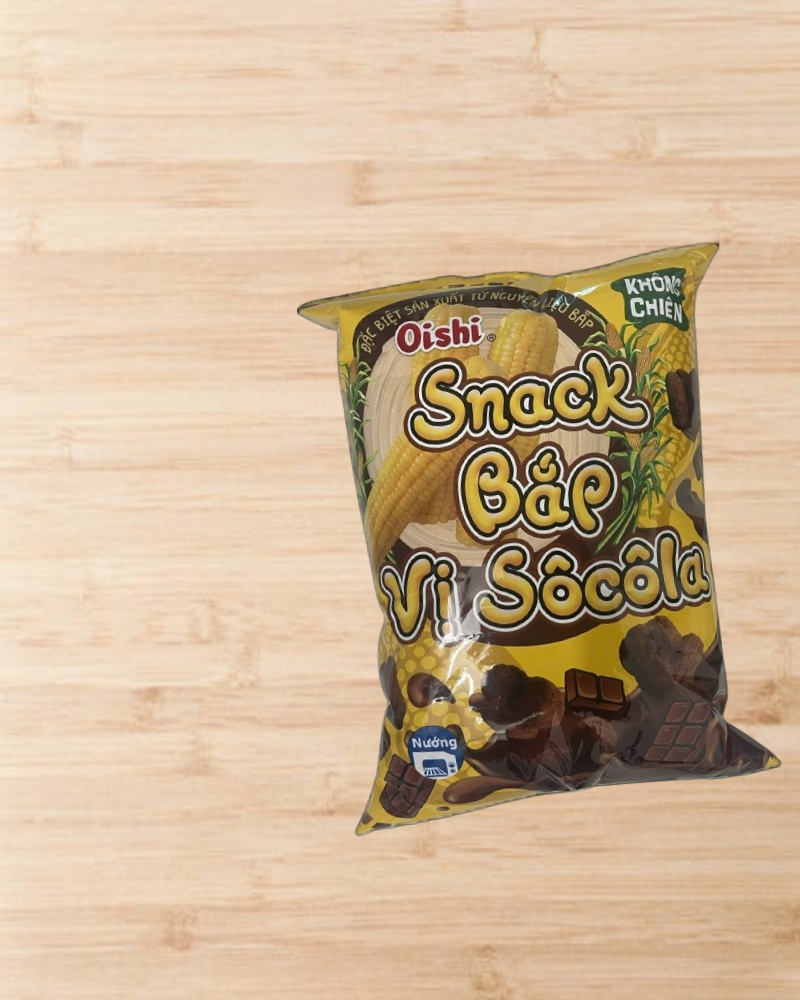Snack socola: (298, 244, 784, 825)
